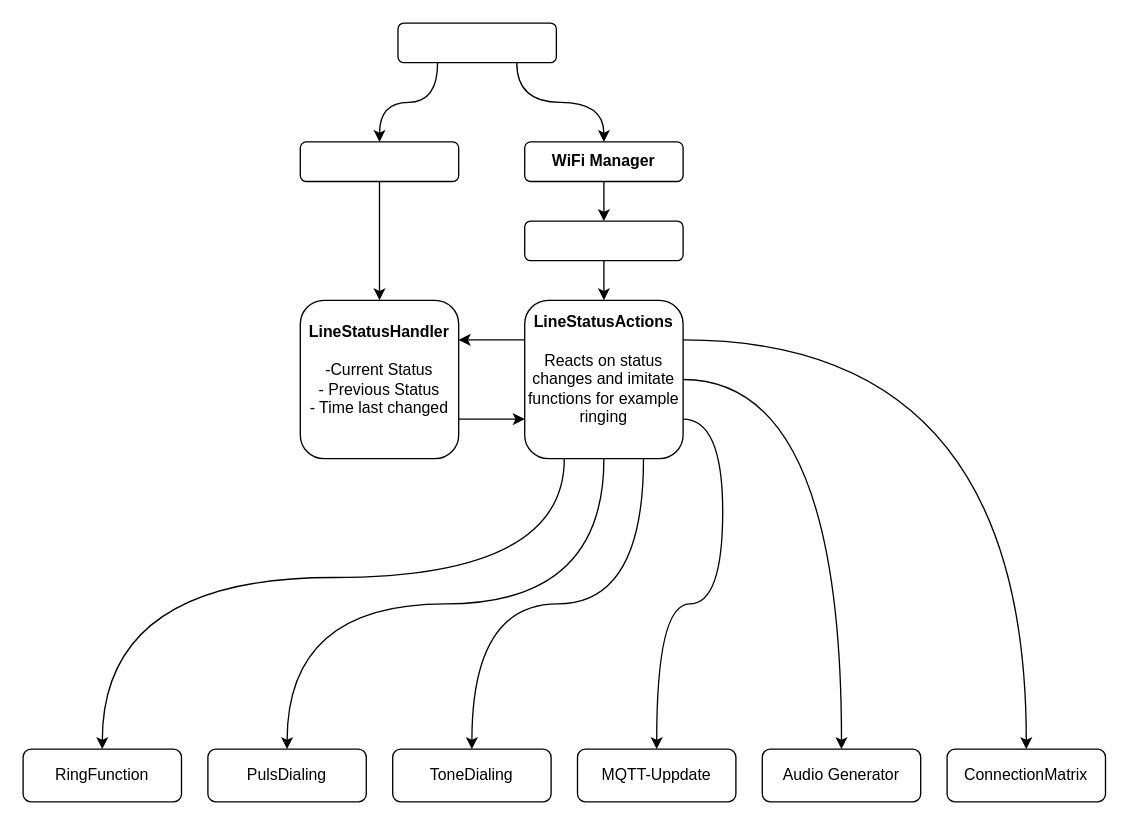
The diagram is 1129 pixels wide and 825 high, and some of its shapes have lost their labels. Here are the shapes that lost their labels. From the top down, the centre of each, then its label:
At point (476, 42): "Void loop".
At point (379, 161): "Sensing SHK".
At point (603, 240): "MQTT Manager".
